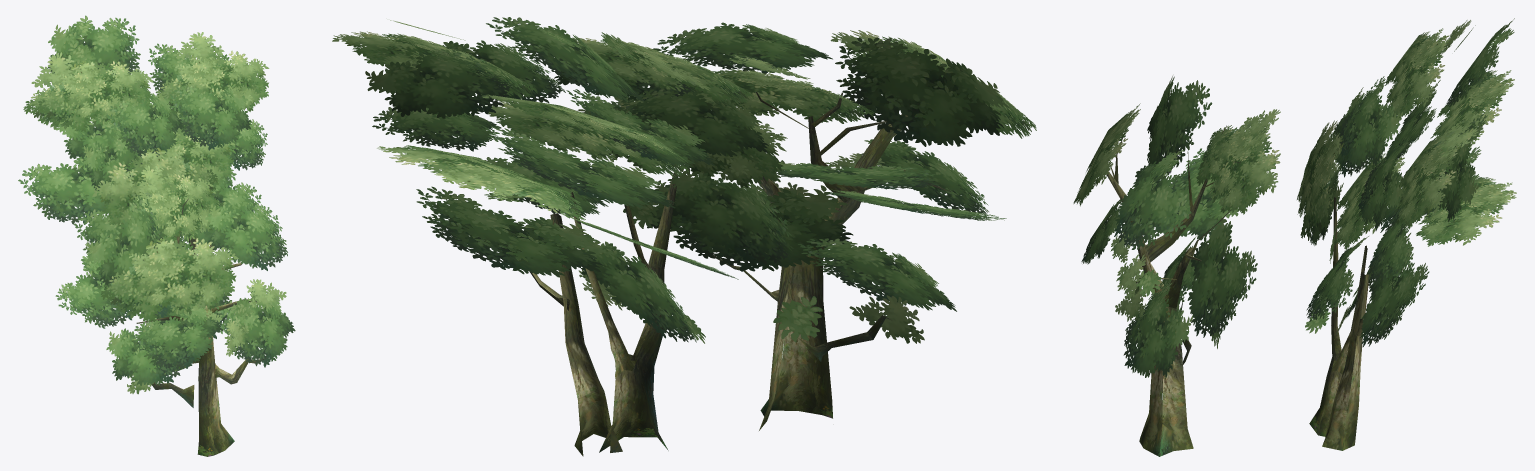
File: shu_09.FBX
The picture shows the model from 3 angles, left to right: view 1: azimuth 30°, elevation 25°; view 2: azimuth 150°, elevation 25°; view 3: azimuth 270°, elevation 25°; orthographic projection. The views are drawn at different scales.
Visible parts, largest first — view 1: shu_09; view 2: shu_09; view 3: shu_09.
Part boxes in pixels (x1,y1,x2,y2): shu_09: [18, 15, 295, 456]; shu_09: [332, 17, 1036, 456]; shu_09: [1073, 18, 1516, 456].
Size of the model in its own units: 787 by 805 by 775.
